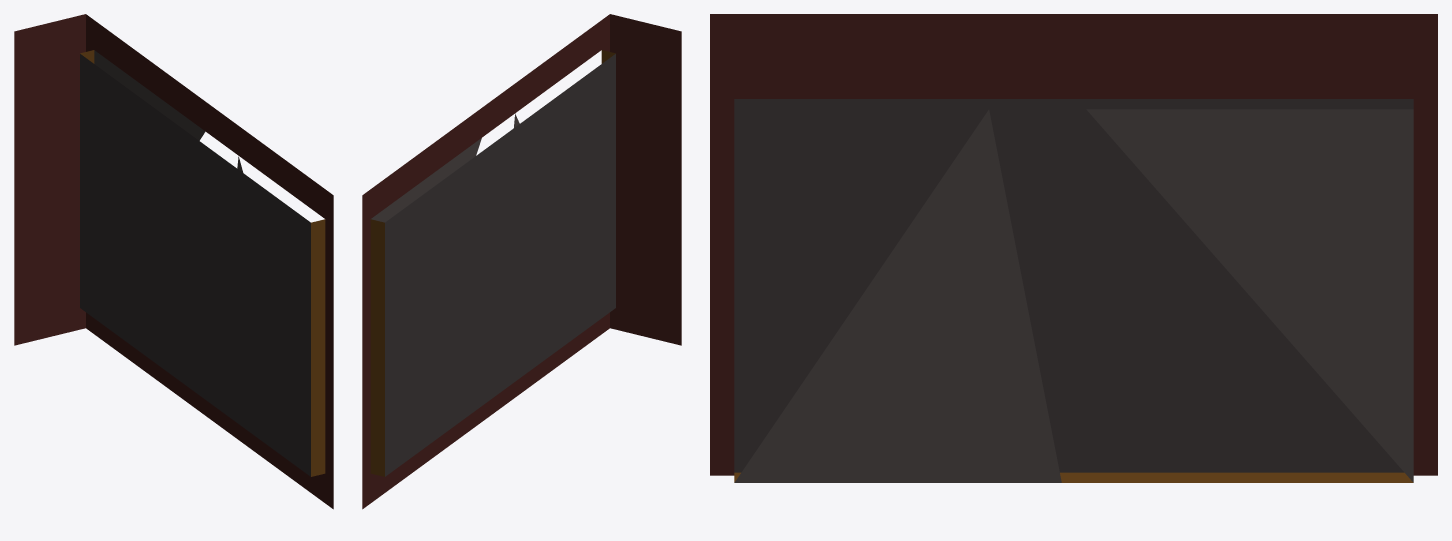
The model's file is obj_bookshelves_0.obj.
The picture shows the model from 3 angles, left to right: view 1: azimuth 30°, elevation 25°; view 2: azimuth 150°, elevation 25°; view 3: azimuth 270°, elevation 25°; orthographic projection. The views are drawn at different scales.
Bounding box in the file's own units: 0.3125 × 1.31 × 1.88.
